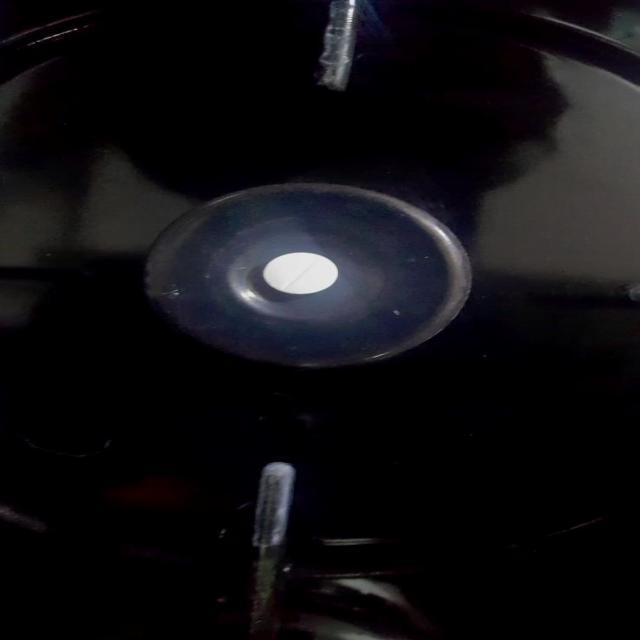pill: (242, 249, 351, 297)
